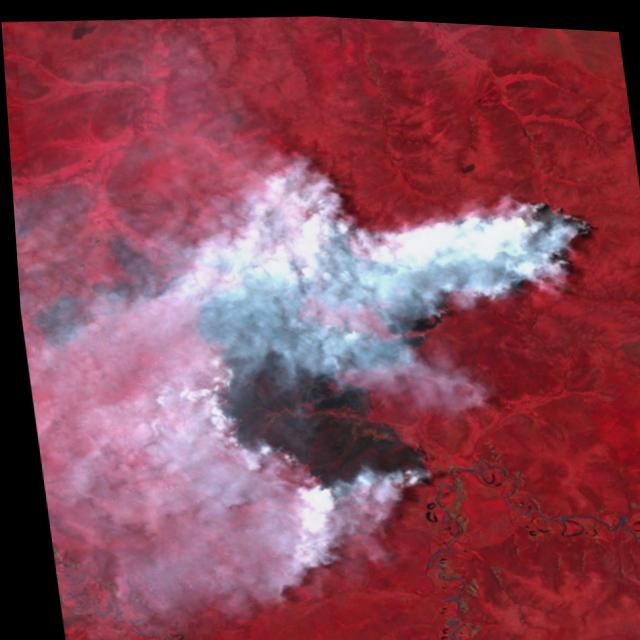fire: (185, 345, 437, 517), (315, 178, 610, 296)
